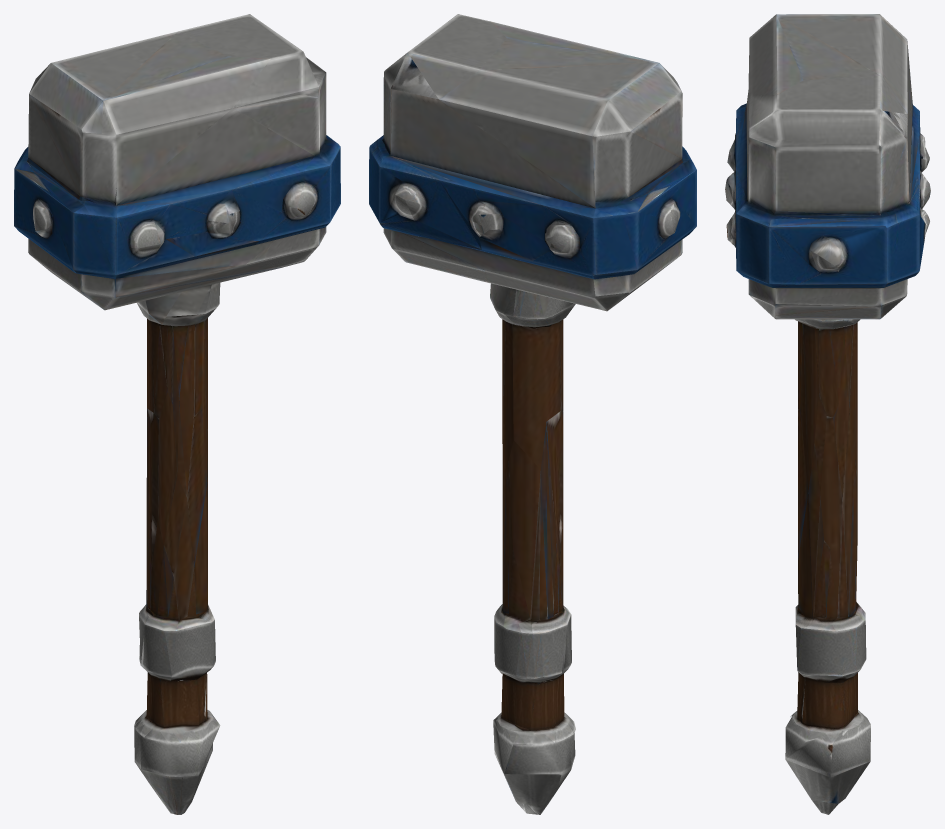
Rendered from minion_hammer.glb.
The picture shows the model from 3 angles, left to right: view 1: azimuth 30°, elevation 25°; view 2: azimuth 150°, elevation 25°; view 3: azimuth 270°, elevation 25°; orthographic projection.
Bounding box in the file's own units: 0.7421 × 1.9 × 0.4712.
Materials: 1 (1 with a texture image).
